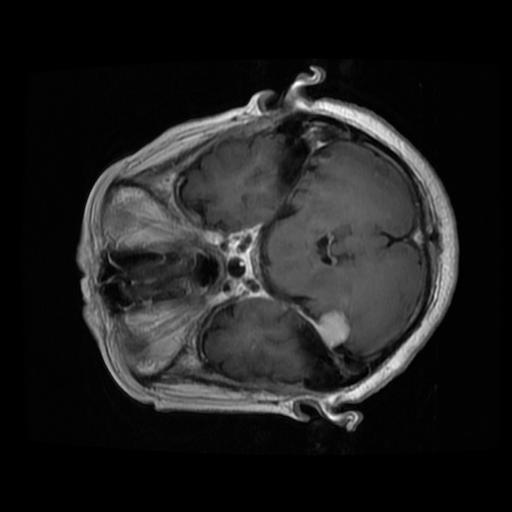meningioma: (294, 306, 351, 349)
